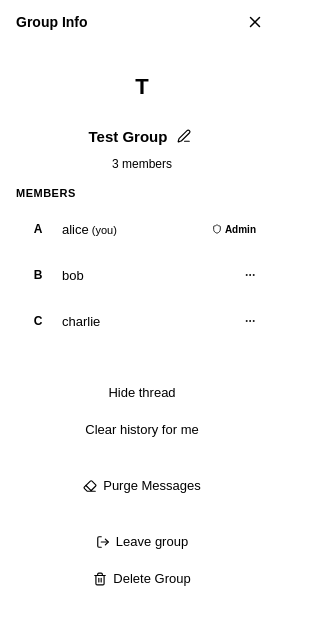
Test: GroupInfoPanel › shows error when deleteGroup fails
This screenshot has width=320, height=635.
Click the button "Delete Group": (142, 578) [16,563,268,594]
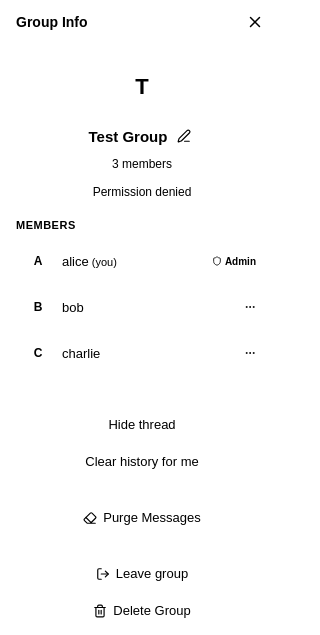
Expected: the text "Permission denied" is shown, [93,185,191,199]
